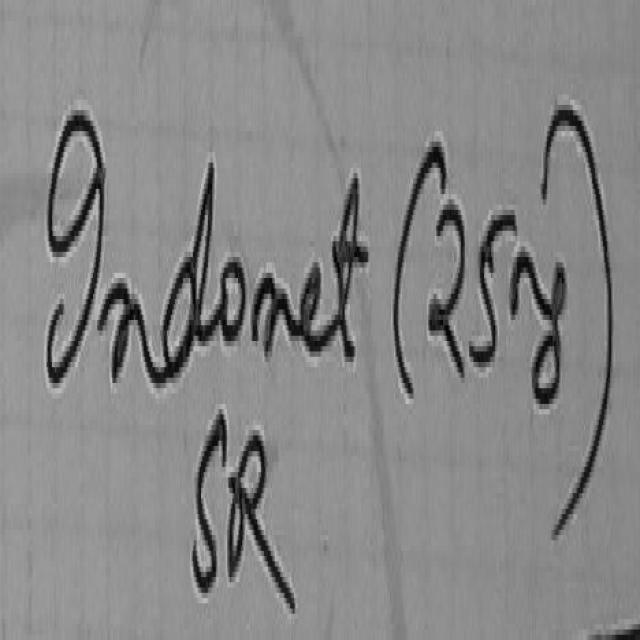2: (425, 184, 472, 410)
5: (472, 175, 507, 414)
I: (26, 60, 121, 457)
R: (222, 416, 312, 632)
S: (179, 407, 242, 621)
d: (152, 136, 232, 407)
e: (298, 230, 334, 378)
g: (520, 232, 580, 479)
m: (249, 237, 299, 390), (504, 220, 546, 342)
n: (93, 231, 165, 464)
o: (217, 224, 249, 388)
t: (331, 142, 372, 388)
